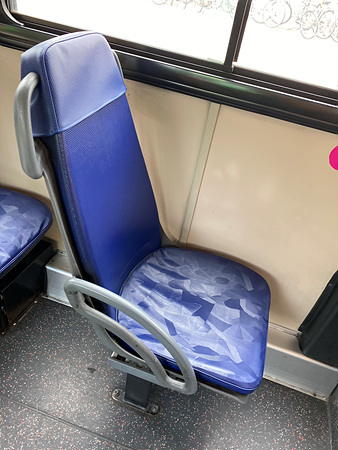seat: (23, 31, 273, 394)
